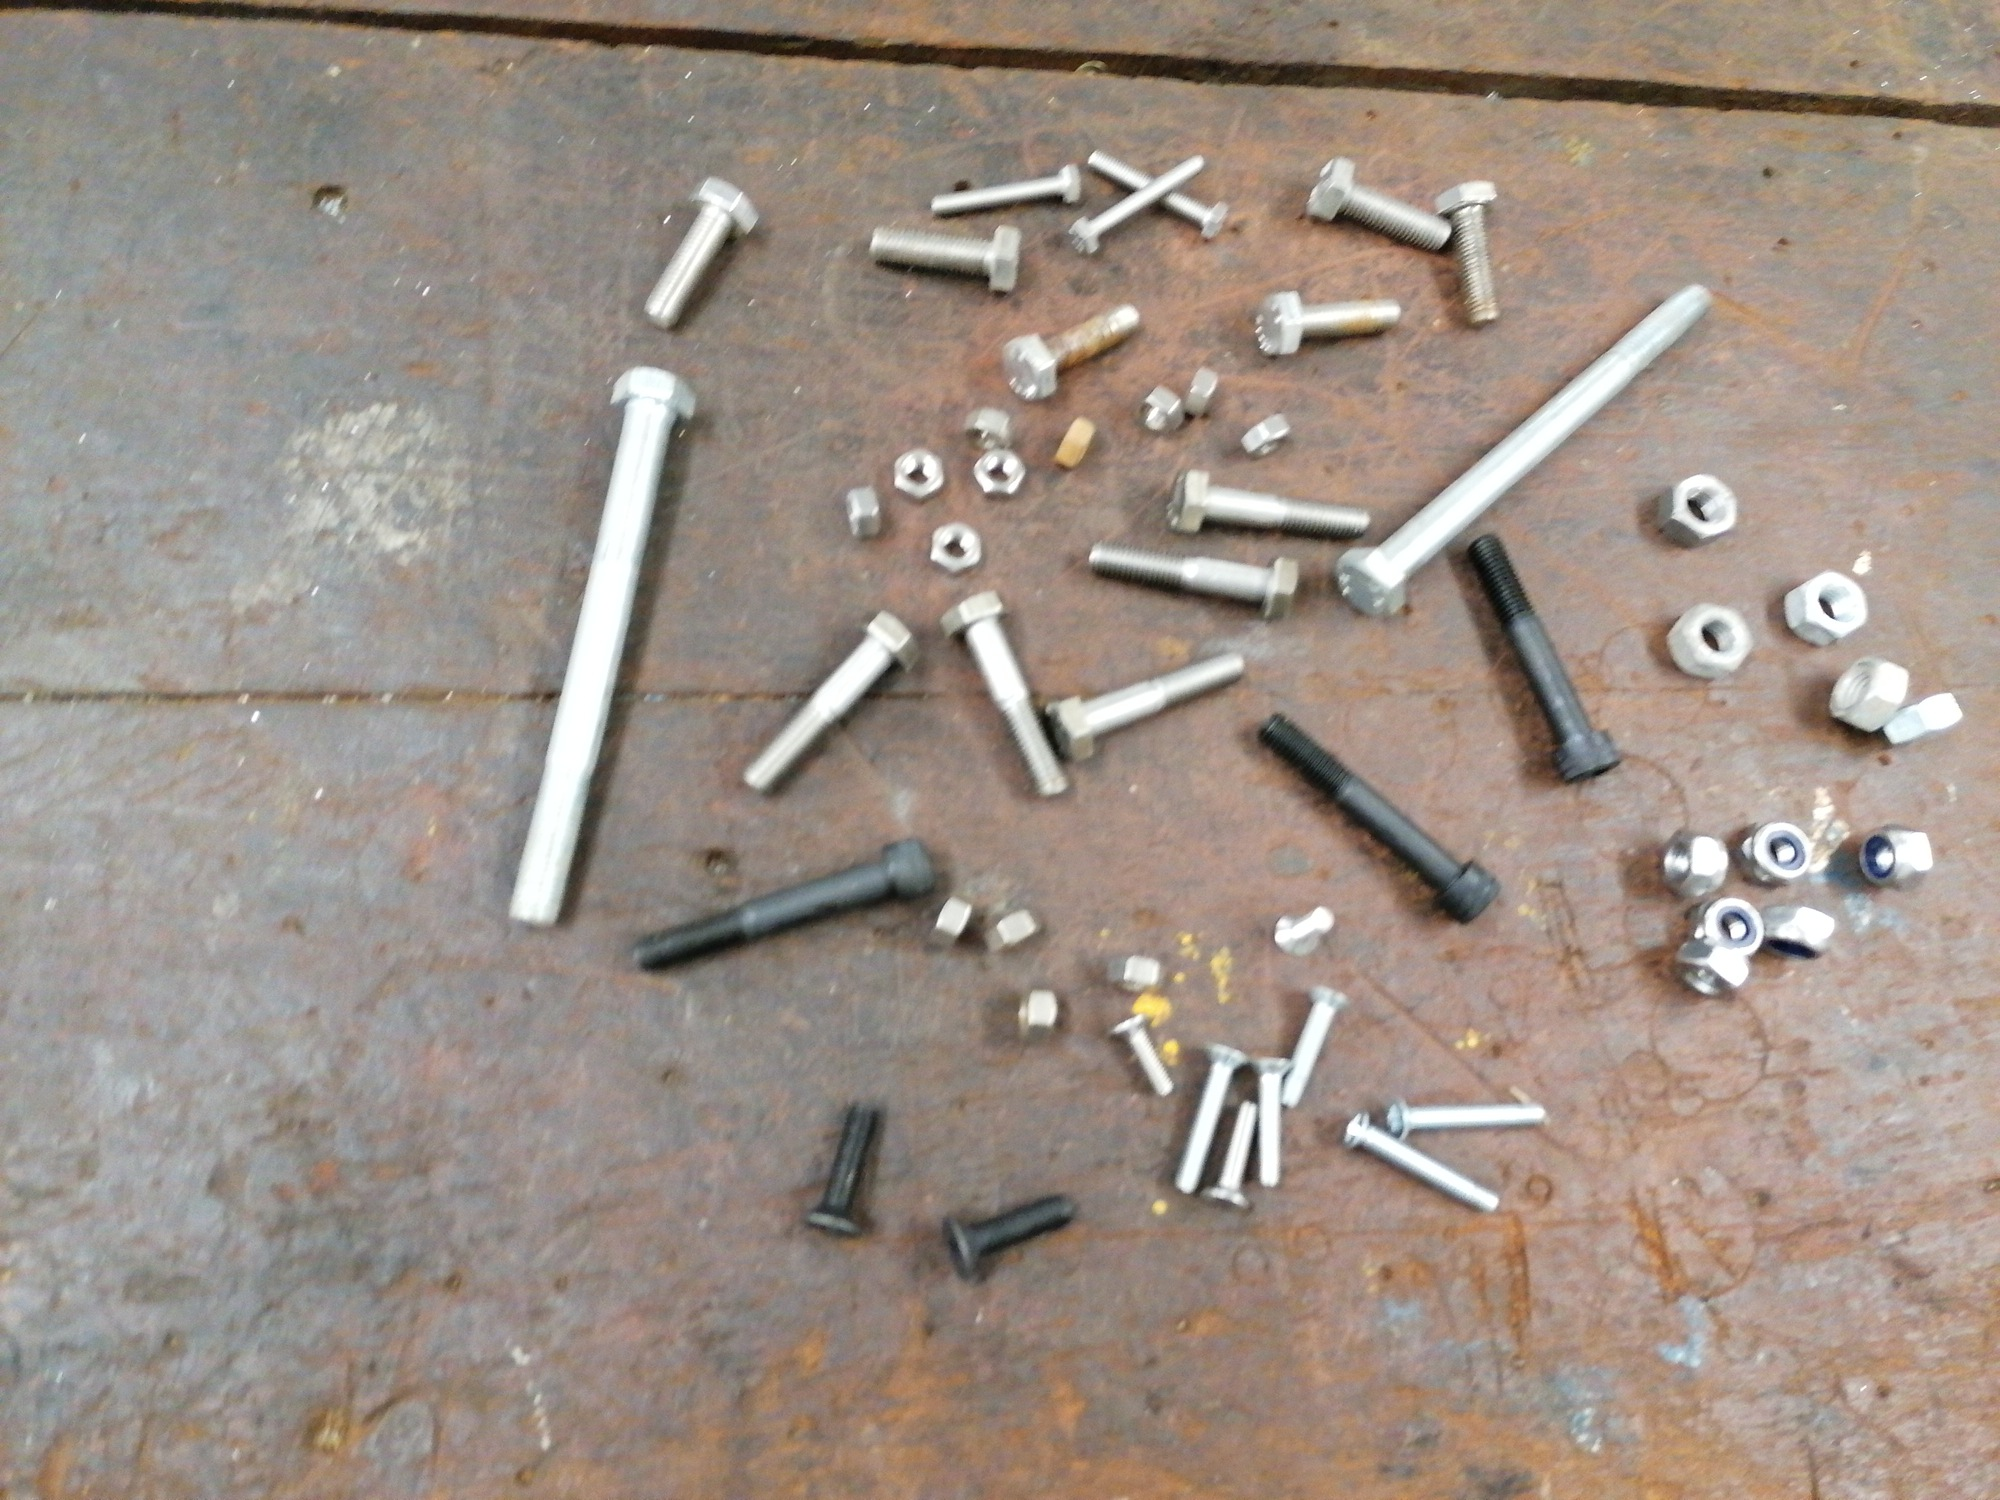bolt: (1332, 282, 1713, 618), (504, 366, 698, 928), (1258, 711, 1501, 923), (631, 837, 935, 971), (1469, 531, 1622, 785), (742, 610, 920, 796), (939, 588, 1069, 800), (1044, 651, 1246, 761), (641, 173, 759, 329), (1087, 539, 1298, 622), (1342, 1111, 1499, 1212), (1165, 465, 1372, 539), (1000, 301, 1142, 400), (1068, 153, 1205, 255), (1306, 154, 1450, 251), (1087, 148, 1228, 239), (939, 1194, 1076, 1281), (1172, 1041, 1249, 1194), (868, 222, 1022, 293), (1250, 288, 1402, 358), (803, 1105, 882, 1237), (1435, 180, 1499, 328), (929, 161, 1083, 217), (1279, 985, 1350, 1108), (1384, 1093, 1546, 1141), (1200, 1098, 1260, 1210), (1247, 1056, 1298, 1188), (1109, 1013, 1173, 1097), (1272, 904, 1335, 956)
nut: (1781, 567, 1869, 648), (1665, 600, 1754, 679), (1654, 471, 1739, 548), (1827, 655, 1910, 733), (1732, 818, 1813, 887), (1857, 822, 1935, 892), (1682, 897, 1765, 960), (1672, 934, 1751, 997), (1661, 827, 1729, 898), (1759, 903, 1838, 963), (1880, 692, 1964, 745), (928, 520, 983, 577), (893, 446, 946, 503), (972, 446, 1027, 499), (981, 906, 1043, 953), (1106, 952, 1169, 993), (1016, 985, 1058, 1045), (1132, 384, 1184, 433), (1239, 411, 1293, 459), (1052, 414, 1098, 470), (961, 405, 1016, 451), (928, 893, 972, 949), (843, 484, 882, 539), (1183, 364, 1220, 414)
